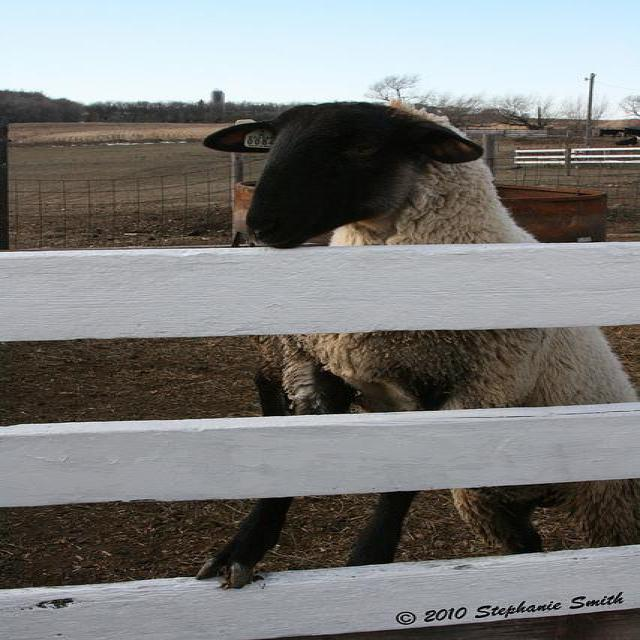Sheep: (194, 100, 638, 591)
